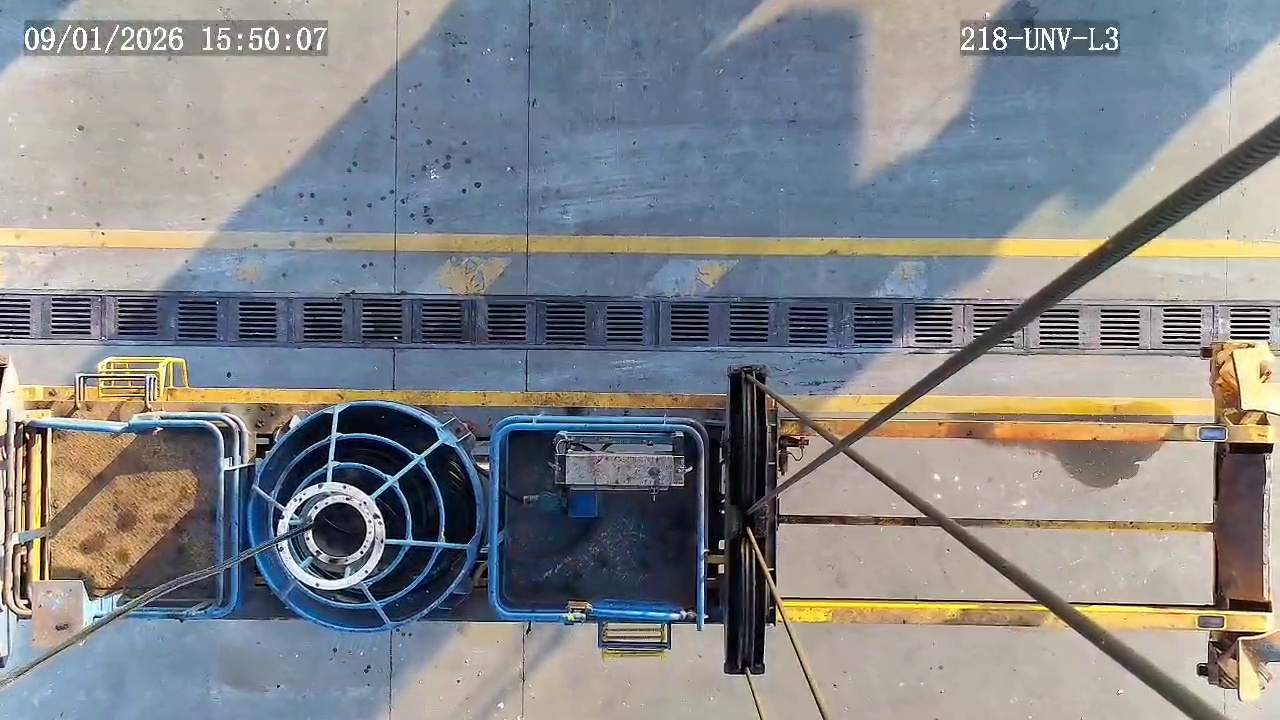right: (275, 480, 387, 589)
